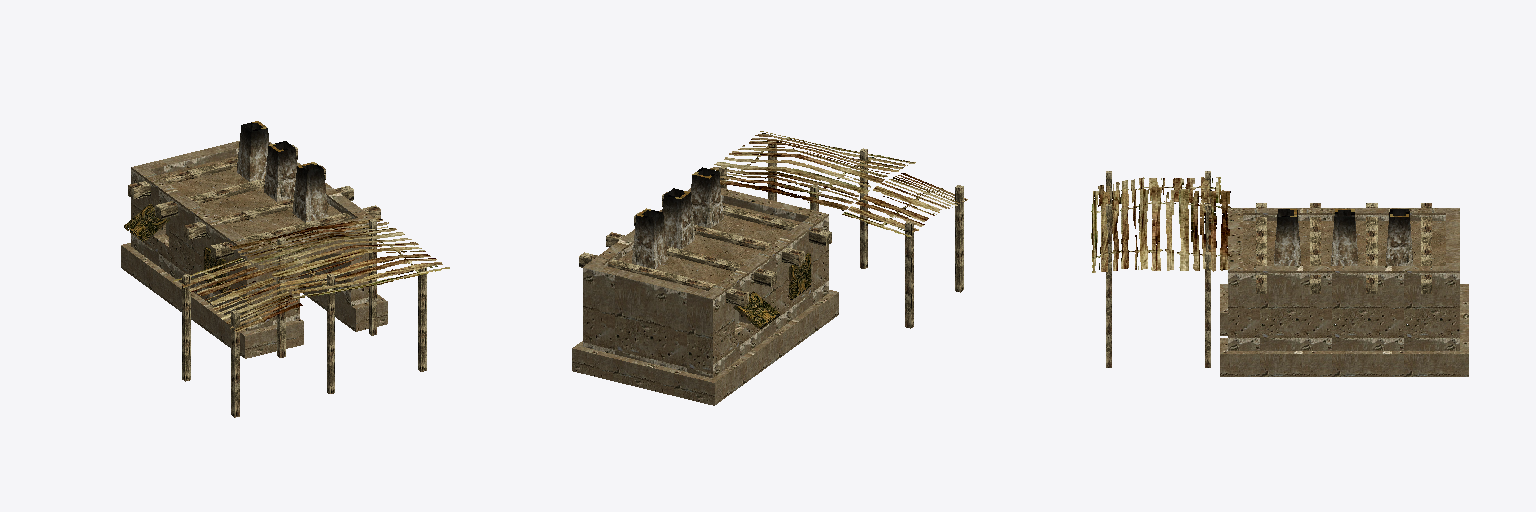
3 renders of one model, left to right at view 1: azimuth 30°, elevation 25°; view 2: azimuth 150°, elevation 25°; view 3: azimuth 270°, elevation 25°, orthographic.
Visible parts, largest first — view 1: Mesh_1, Mesh_2, Mesh_3, Mesh_0; view 2: Mesh_1, Mesh_2, Mesh_3, Mesh_0; view 3: Mesh_1, Mesh_2, Mesh_3, Mesh_0.
Part boxes in pixels (bbox=[...]): Mesh_1: bbox=[121, 141, 387, 358]; Mesh_2: bbox=[124, 121, 426, 417]; Mesh_3: bbox=[173, 218, 449, 331]; Mesh_0: bbox=[158, 156, 341, 237]; Mesh_1: bbox=[572, 188, 838, 405]; Mesh_2: bbox=[579, 141, 963, 329]; Mesh_3: bbox=[710, 131, 967, 236]; Mesh_0: bbox=[618, 203, 801, 284]; Mesh_1: bbox=[1220, 208, 1468, 376]; Mesh_2: bbox=[1106, 171, 1431, 367]; Mesh_3: bbox=[1091, 177, 1231, 272]; Mesh_0: bbox=[1243, 221, 1445, 265].
Bounding box in the file's own units: 6.33 × 3.83 × 9.14.
Materials: 5 (5 with a texture image).